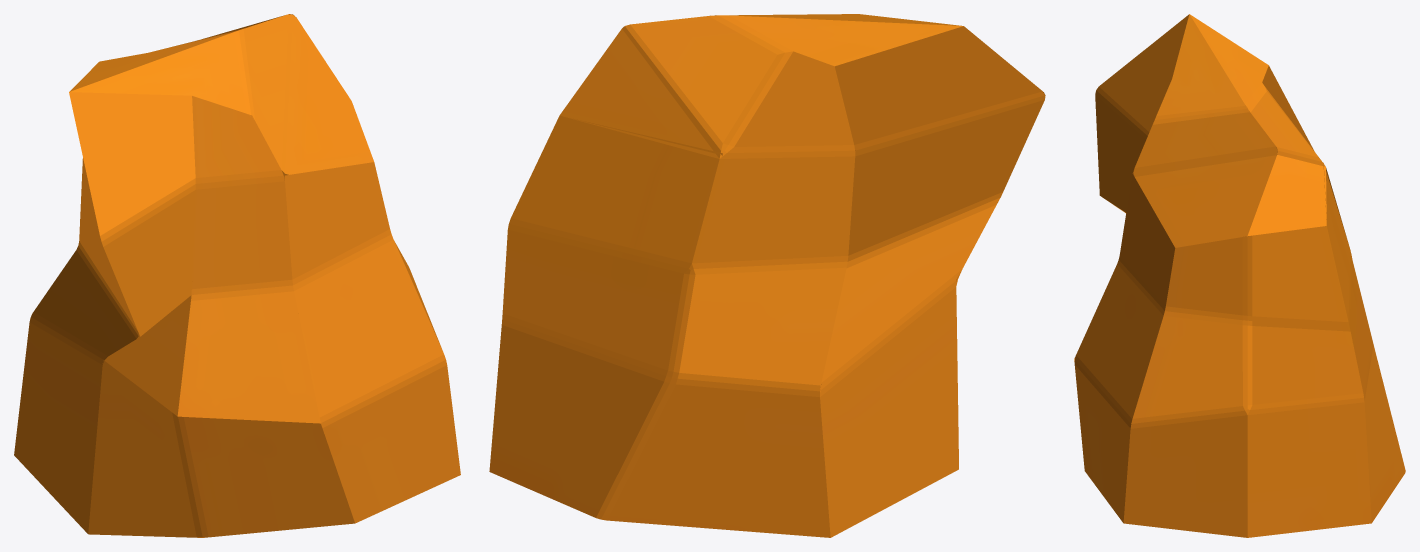
File: Desert_Rock_1.fbx
The picture shows the model from 3 angles, left to right: view 1: azimuth 30°, elevation 25°; view 2: azimuth 150°, elevation 25°; view 3: azimuth 270°, elevation 25°; orthographic projection. The views are drawn at different scales.
Visible parts, largest first — view 1: Desert_Rock_1; view 2: Desert_Rock_1; view 3: Desert_Rock_1.
Boxes of the visible parts, box(x1,y1,x2,y2) form: Desert_Rock_1: box(14, 14, 460, 537); Desert_Rock_1: box(489, 14, 1045, 537); Desert_Rock_1: box(1074, 14, 1405, 537).
Bounding box in the file's own units: 2.1 × 2.14 × 1.76.
